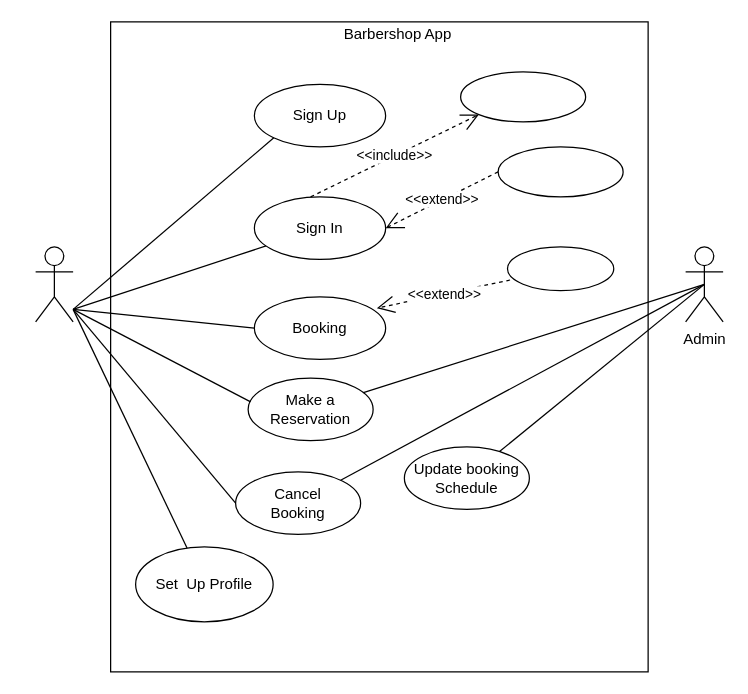
The diagram is 748 pixels wide and 694 high, and some of its shapes have lost their labels. Here are the shapes that lost their labels. From the top down, the centre of each, then its label:
pixel 522 96: Verify Password
pixel 560 171: Display Login Error
pixel 53 284: Customer
pixel 560 268: Choose Day
